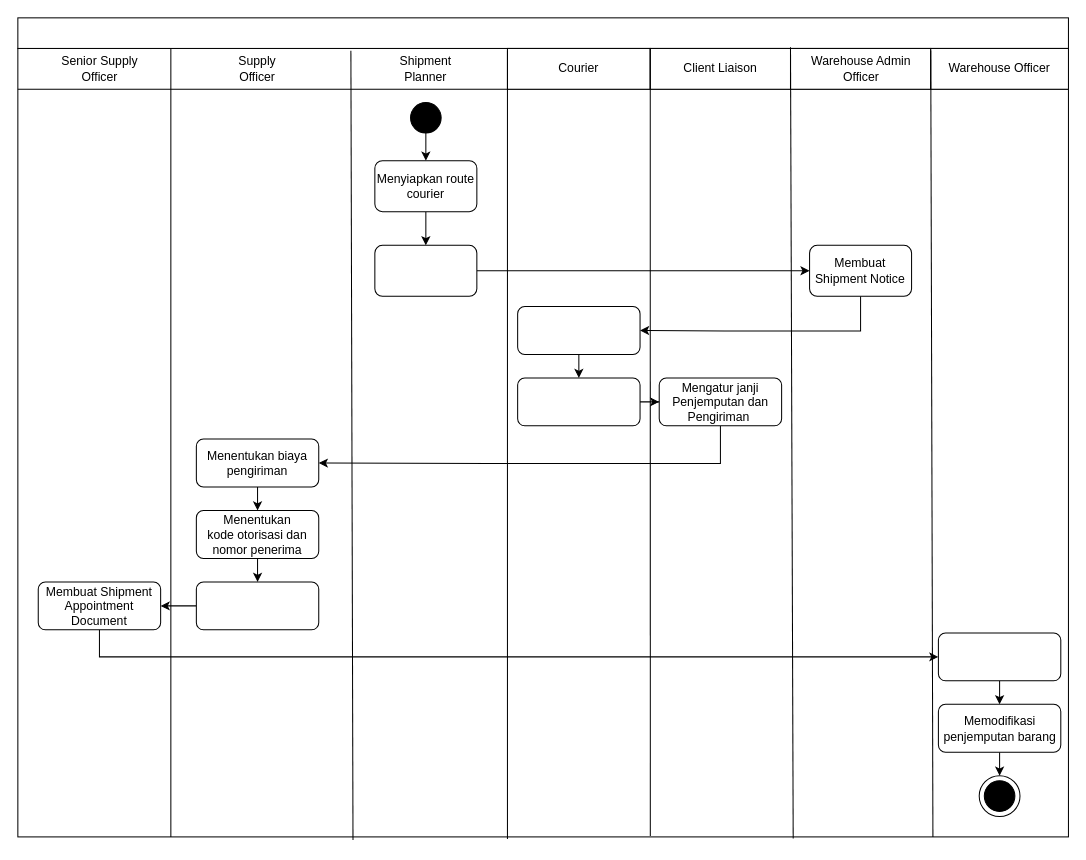
The diagram is 1086 pixels wide and 860 high, and some of its shapes have lost their labels. Here are the shapes that lost their labels. From the top down, the centre of each, then its label:
the point at 542,32: Subproses Carrier Appointment
the point at 425,270: Menentukan penggunaan trailer
the point at 578,329: Menerima Carrier Order
the point at 578,401: Pengiriman package full truck load
the point at 257,605: Membuat dan memodifikasi delivery appointment
the point at 999,656: Mengatur penjemputan barang
